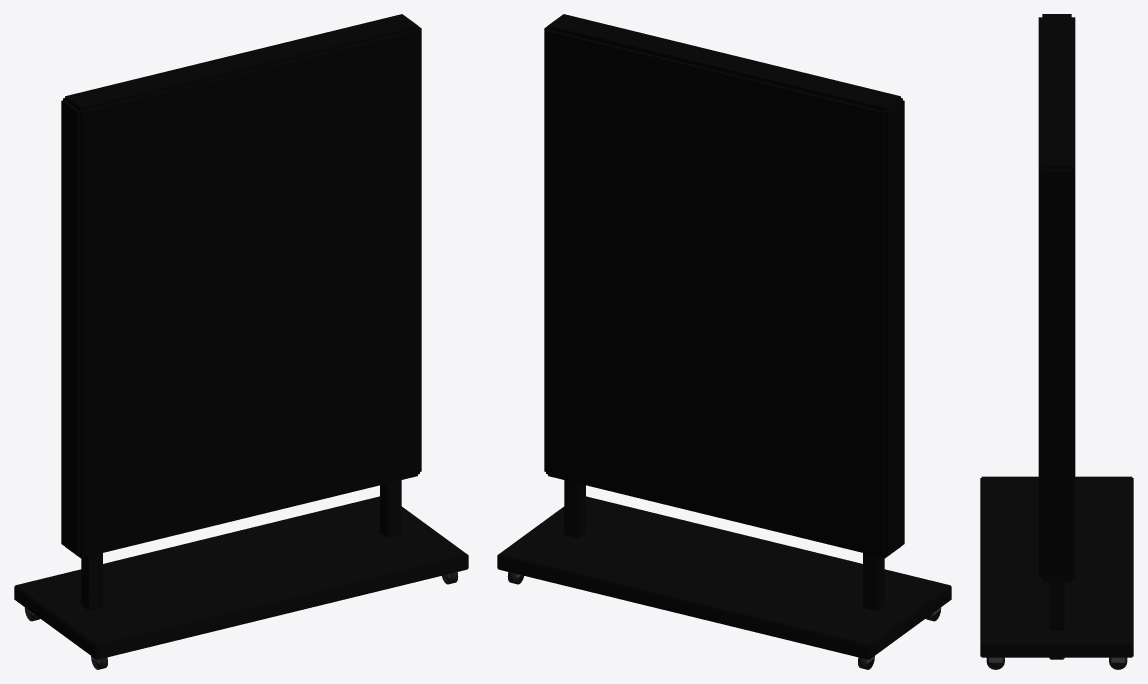
The model's file is obj_rubber_wall.glb.
The picture shows the model from 3 angles, left to right: view 1: azimuth 30°, elevation 25°; view 2: azimuth 150°, elevation 25°; view 3: azimuth 270°, elevation 25°; orthographic projection. The views are drawn at different scales.
Parts seen in each view (by area): view 1: rubber_wall_body; view 2: rubber_wall_body; view 3: rubber_wall_body.
Part boxes in pixels (x1,y1,x2,y2): rubber_wall_body: [14, 14, 468, 663]; rubber_wall_body: [497, 14, 951, 663]; rubber_wall_body: [980, 14, 1133, 662].
Size of the model in its own units: 1.3 by 1.8 by 0.5.
2 materials, 1 textured.
